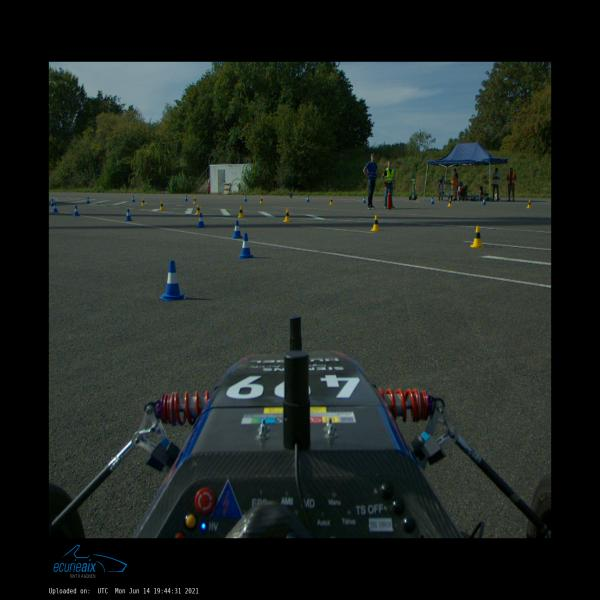blue_cone: (160, 261, 186, 301), (239, 234, 254, 258), (232, 220, 242, 238), (197, 214, 205, 228), (125, 209, 132, 221), (73, 206, 79, 216), (52, 203, 58, 212), (50, 198, 54, 206), (430, 197, 434, 204), (482, 198, 486, 205), (132, 196, 136, 202), (362, 196, 366, 202), (86, 197, 90, 203), (184, 196, 188, 201), (306, 196, 309, 202), (244, 196, 247, 201)
yellow_cone: (471, 226, 484, 248), (371, 215, 381, 231), (284, 209, 291, 222), (237, 207, 244, 217), (195, 204, 201, 214), (526, 200, 532, 209), (159, 201, 165, 210), (192, 196, 196, 204), (260, 197, 264, 204), (329, 197, 333, 204), (141, 198, 145, 205), (448, 199, 452, 206)
